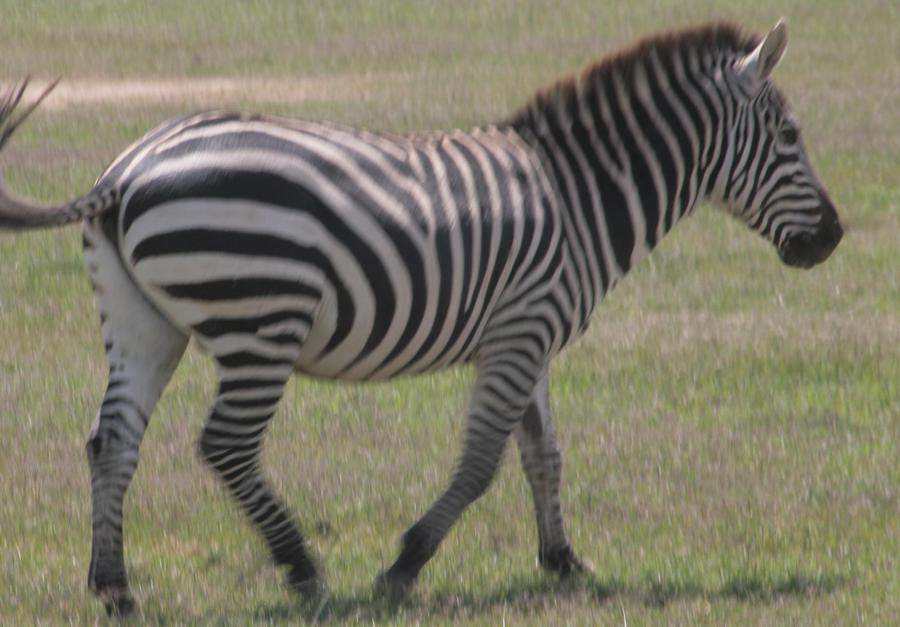zebra_plains: (180, 101, 608, 389)
